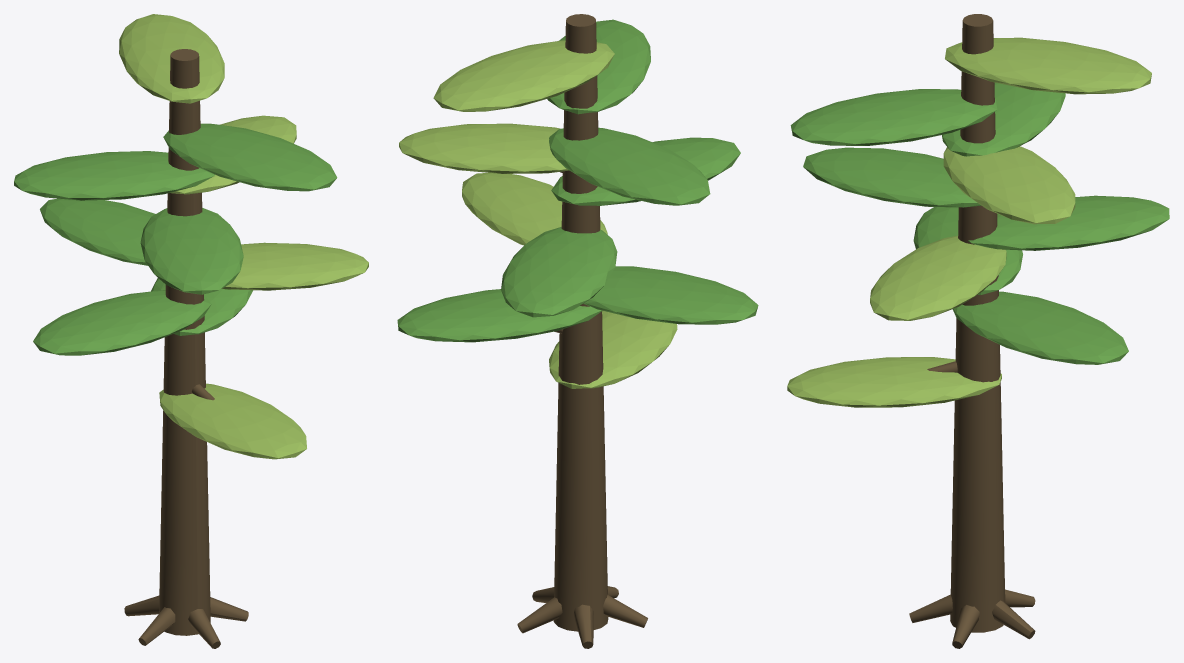
Rendered from understory-cycad.glb.
3 renders of one model, left to right at view 1: azimuth 30°, elevation 25°; view 2: azimuth 150°, elevation 25°; view 3: azimuth 270°, elevation 25°, orthographic. The views are drawn at different scales.
Parts seen in each view (by area): view 1: trunk, foliage-8, foliage-2, foliage-7, foliage-0, foliage-5, foliage-9, foliage-3, foliage-4, foliage-6, foliage-1, root-flare-0 (+3 smaller); view 2: trunk, foliage-9, foliage-7, foliage-4, foliage-2, foliage-6, foliage-1, foliage-3, foliage-0, foliage-8, foliage-5, root-flare-2 (+2 smaller); view 3: trunk, foliage-8, foliage-9, foliage-1, foliage-0, foliage-3, foliage-6, foliage-5, foliage-4, foliage-7, foliage-2, root-flare-2 (+2 smaller).
Part boxes in pixels (bbox=[...]): trunk: bbox=[159, 49, 210, 635]; foliage-8: bbox=[163, 123, 337, 191]; foliage-2: bbox=[33, 290, 211, 355]; foliage-7: bbox=[14, 151, 214, 200]; foliage-0: bbox=[159, 383, 306, 459]; foliage-5: bbox=[140, 208, 243, 294]; foliage-9: bbox=[119, 14, 224, 103]; foliage-3: bbox=[222, 242, 368, 290]; foliage-4: bbox=[40, 198, 155, 265]; foliage-6: bbox=[170, 115, 296, 194]; foliage-1: bbox=[151, 278, 252, 335]; root-flare-0: bbox=[188, 609, 220, 648]; trunk: bbox=[553, 14, 608, 631]; foliage-9: bbox=[433, 40, 614, 111]; foliage-7: bbox=[549, 127, 710, 205]; foliage-4: bbox=[501, 227, 617, 317]; foliage-2: bbox=[583, 266, 758, 324]; foliage-6: bbox=[399, 123, 569, 173]; foliage-1: bbox=[397, 289, 602, 342]; foliage-3: bbox=[462, 172, 607, 245]; foliage-0: bbox=[549, 311, 677, 388]; foliage-8: bbox=[547, 19, 650, 114]; foliage-5: bbox=[551, 137, 740, 205]; root-flare-2: bbox=[517, 597, 562, 633]; trunk: bbox=[950, 14, 1005, 632]; foliage-8: bbox=[790, 89, 997, 145]; foliage-9: bbox=[945, 37, 1151, 94]; foliage-1: bbox=[952, 291, 1128, 364]; foliage-0: bbox=[787, 357, 1001, 407]; foliage-3: bbox=[870, 235, 1006, 320]; foliage-6: bbox=[943, 146, 1075, 224]; foliage-5: bbox=[803, 147, 980, 207]; foliage-4: bbox=[968, 195, 1169, 250]; foliage-7: bbox=[942, 82, 1065, 156]; foliage-2: bbox=[913, 207, 1022, 294]; root-flare-2: bbox=[992, 600, 1035, 639].
Size of the model in its own units: 2.32 by 4.21 by 2.42.
